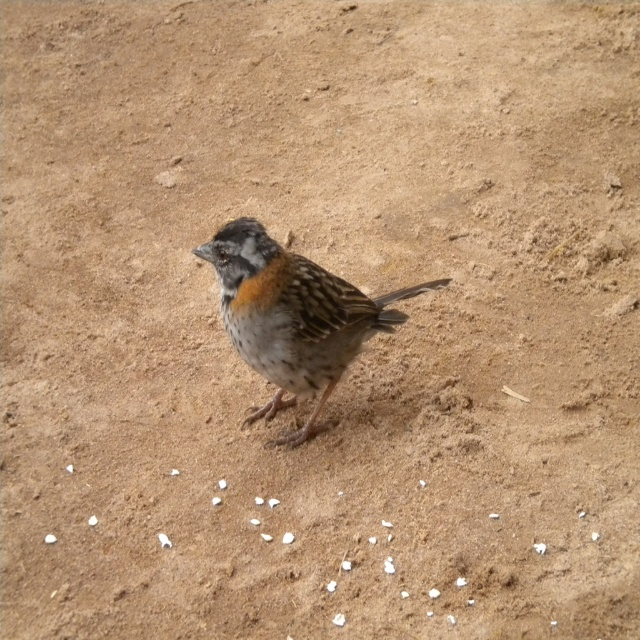Sparrow: (191, 214, 451, 453)
